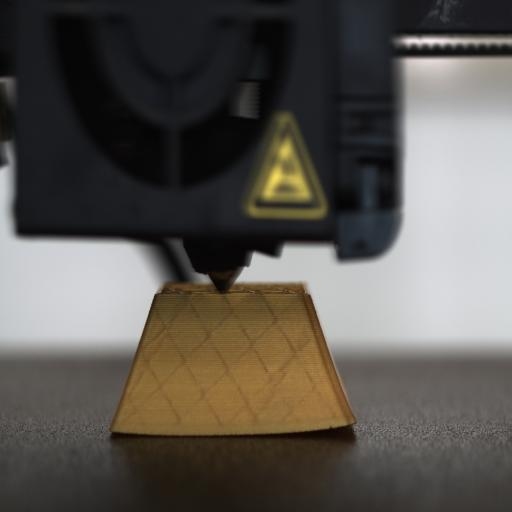warp: (325, 402, 364, 439)
